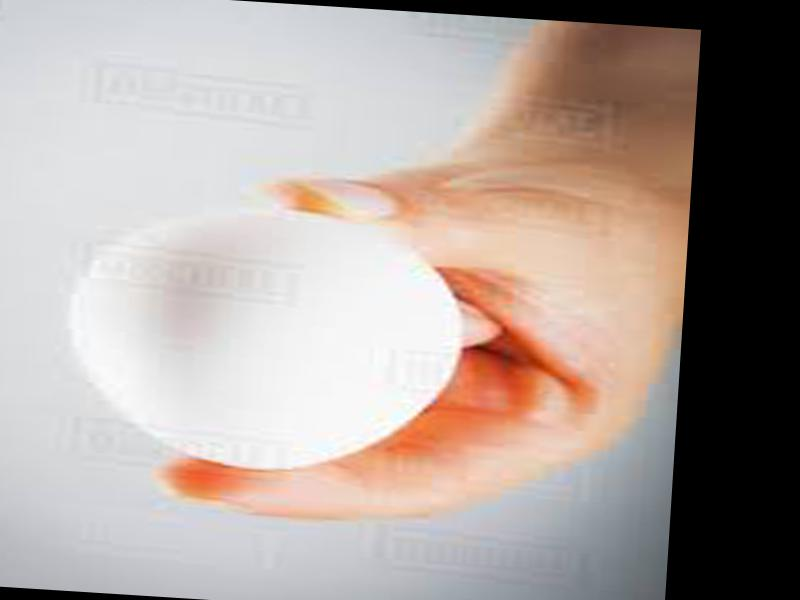Eggs: (61, 201, 465, 481)
